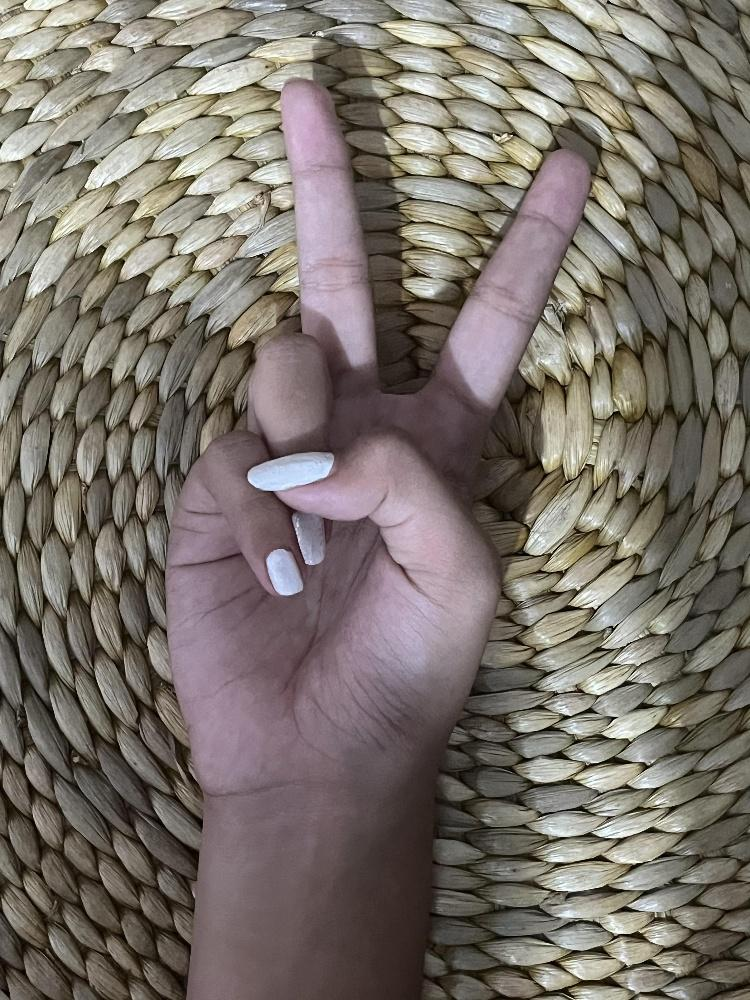v: (163, 78, 589, 785)
